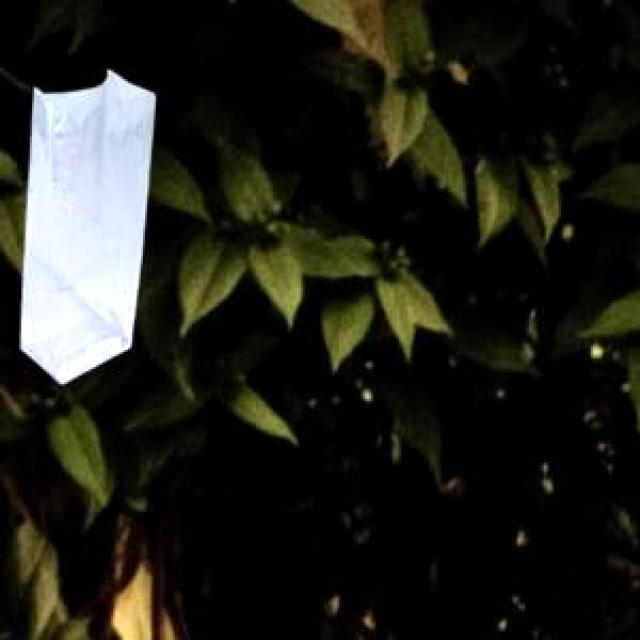Plastic_Bag: (18, 67, 153, 381)
